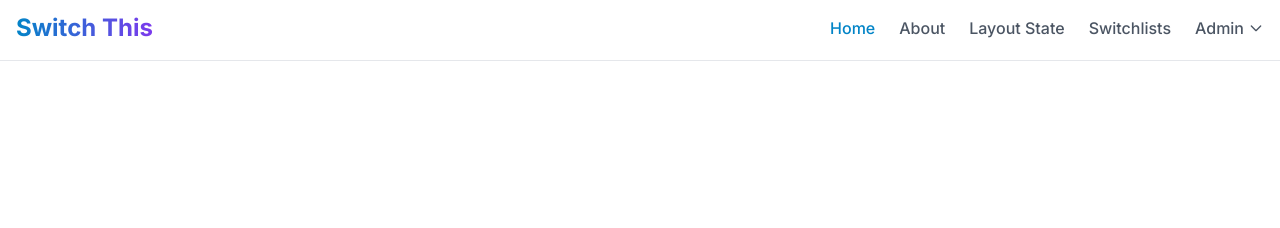
it: Header › shows admin dropdown links when admin is clicked
Check: the text "Industries" is not shown
Check: the text "Rolling Stock" is not shown
# Click admin button
Click the button "Admin".
click(1230, 28)  # box left=1195, top=16, right=1264, bottom=40
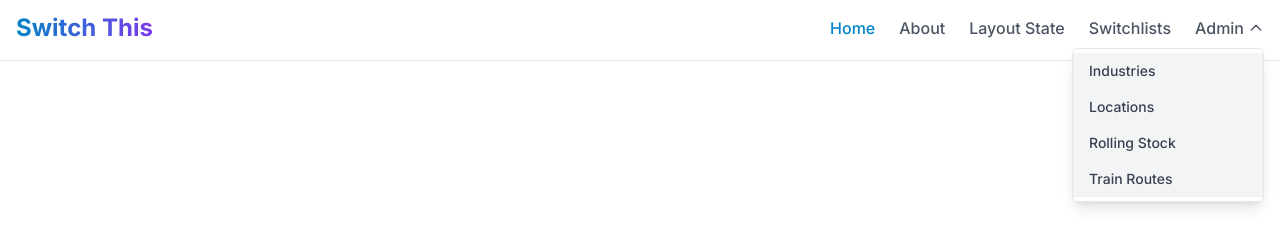
Check: the link "Industries" is shown, box left=1073, top=53, right=1263, bottom=89
Check: the link "Rolling Stock" is shown, box left=1073, top=125, right=1263, bottom=161
Check: the link "Train Routes" is shown, box left=1073, top=161, right=1263, bottom=197
